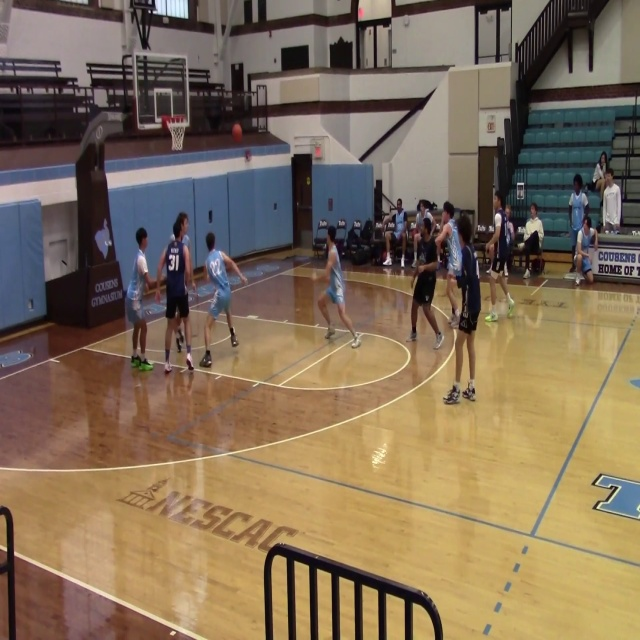Basketball: (231, 123, 242, 142)
